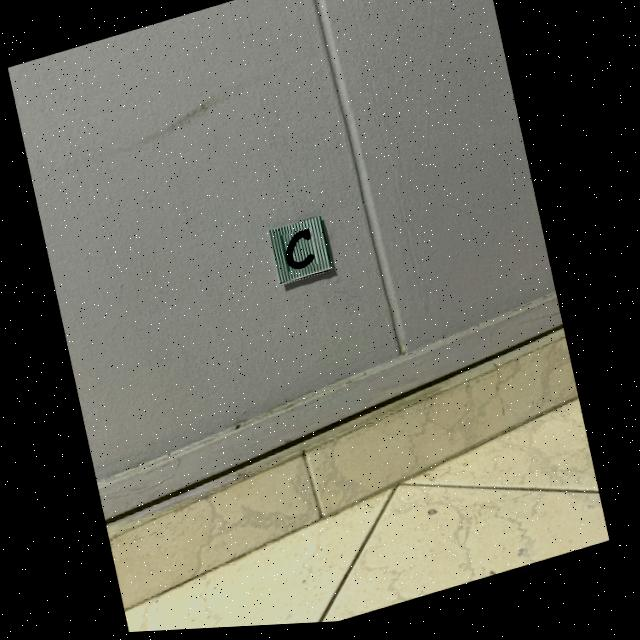C: (288, 231, 317, 272)
